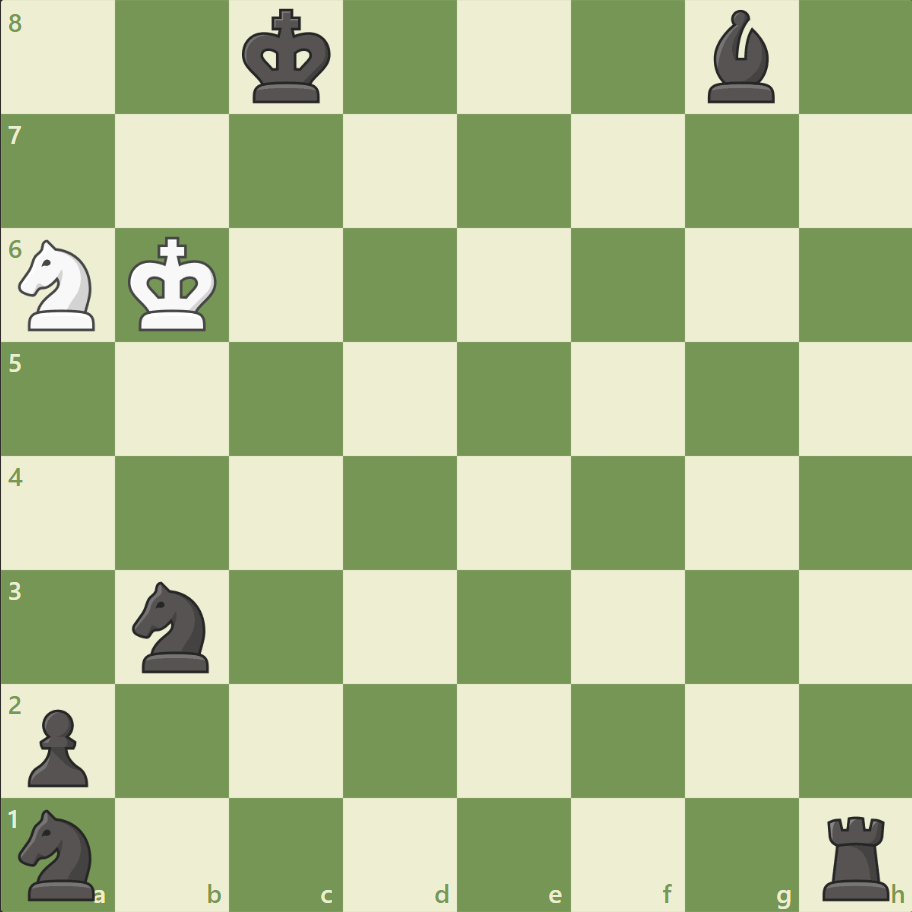K: (124, 231, 224, 339)
N: (11, 234, 108, 337)
b: (698, 6, 782, 109)
k: (238, 4, 338, 112)
n: (124, 575, 222, 677), (11, 802, 108, 904)
p: (20, 700, 95, 791)
r: (814, 806, 897, 904)
